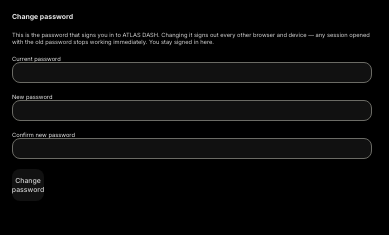
Test: ChangePasswordPanel (F10) › tells the user their current password was wrong on a 401
This screenshot has width=389, height=235.
In the password field labelled "Current password": (192, 72) top-left (12, 62), bottom-right (372, 83), type "the-current-password"
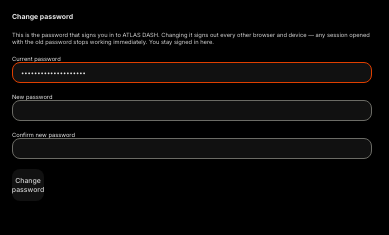
In the password field labelled "New password": (192, 110) top-left (12, 100), bottom-right (372, 121), type "a-brand-new-password"
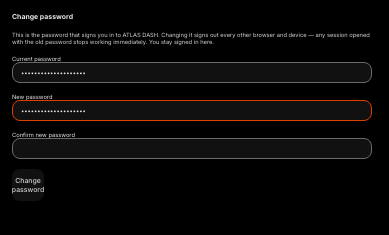
In the password field labelled "Confirm new password": (192, 148) top-left (12, 138), bottom-right (372, 159), type "a-brand-new-password"
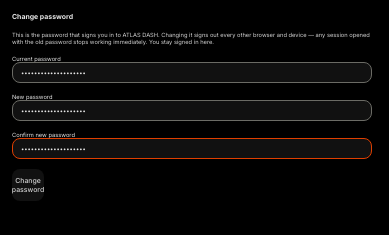
Click the button "Change password": click(28, 185) top-left (12, 169), bottom-right (44, 201)
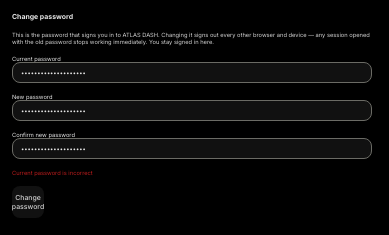
Now the message reads "Current password is incorrect", box top-left (12, 169), bottom-right (93, 176)
